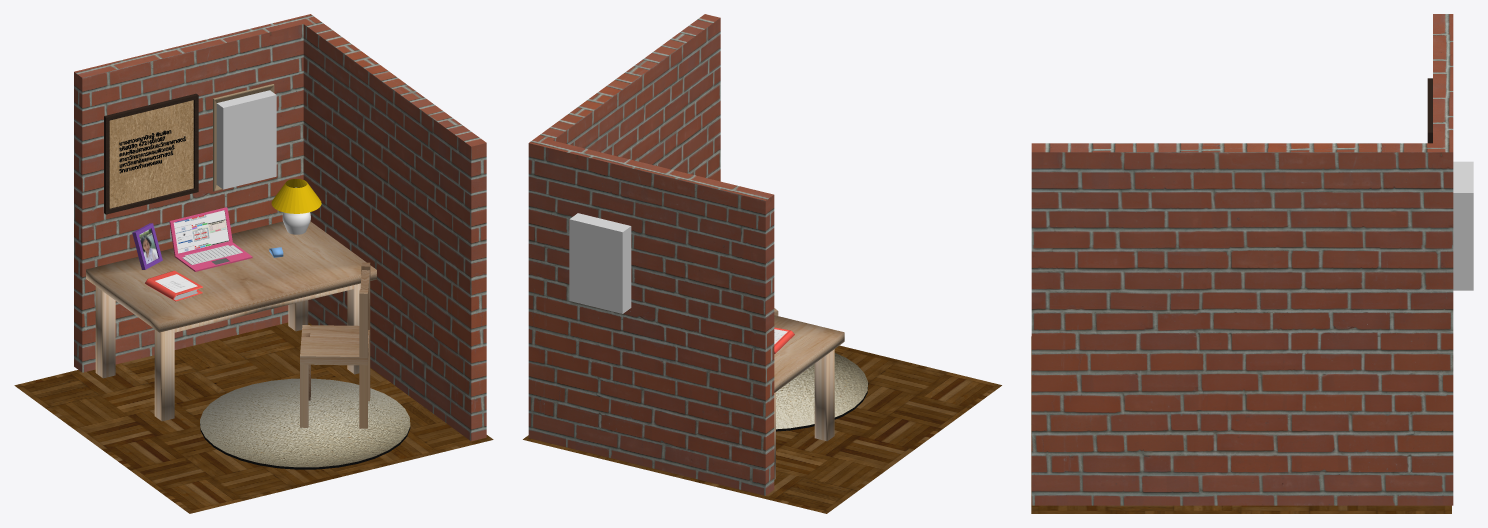
The model's file is portf.glb.
3 renders of one model, left to right at view 1: azimuth 30°, elevation 25°; view 2: azimuth 150°, elevation 25°; view 3: azimuth 270°, elevation 25°, orthographic. The views are drawn at different scales.
Visible parts, largest first — view 1: wall, floor, table, carpet, board.001, window, chair, computer, board, lamp, Text, frame (+2 smaller); view 2: wall, floor, window, table, carpet; view 3: wall, floor, window.
Boxes of the visible parts, <box> form: wall: <box>74,14,486,441</box>; floor: <box>14,322,493,513</box>; table: <box>86,221,376,421</box>; carpet: <box>200,378,410,469</box>; board.001: <box>109,100,193,208</box>; window: <box>216,90,276,189</box>; chair: <box>300,262,370,428</box>; computer: <box>169,207,252,271</box>; board: <box>104,93,198,214</box>; lamp: <box>271,179,321,234</box>; Text: <box>119,130,185,173</box>; frame: <box>132,223,162,269</box>; wall: <box>528,14,774,495</box>; floor: <box>523,345,1001,513</box>; window: <box>569,213,631,313</box>; table: <box>774,315,844,479</box>; carpet: <box>776,353,868,431</box>; wall: <box>1031,14,1453,505</box>; floor: <box>1031,336,1451,513</box>; window: <box>1453,161,1473,290</box>.
Size of the model in its own units: 2.84 by 2.66 by 2.98.
21 materials, 10 textured.
